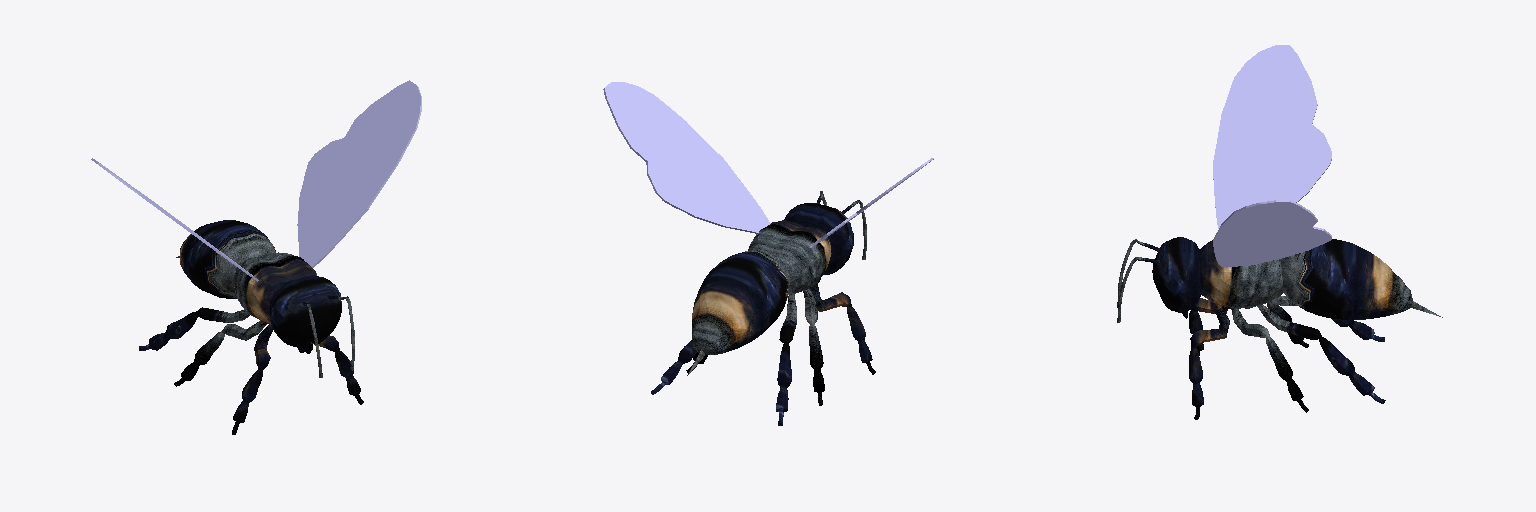
The picture shows the model from 3 angles: view 1: azimuth 30°, elevation 25°; view 2: azimuth 150°, elevation 25°; view 3: azimuth 270°, elevation 25°; orthographic projection.
Size of the model in its own units: 0.015 by 0.0119 by 0.0132.
Materials: 2 (1 with a texture image).